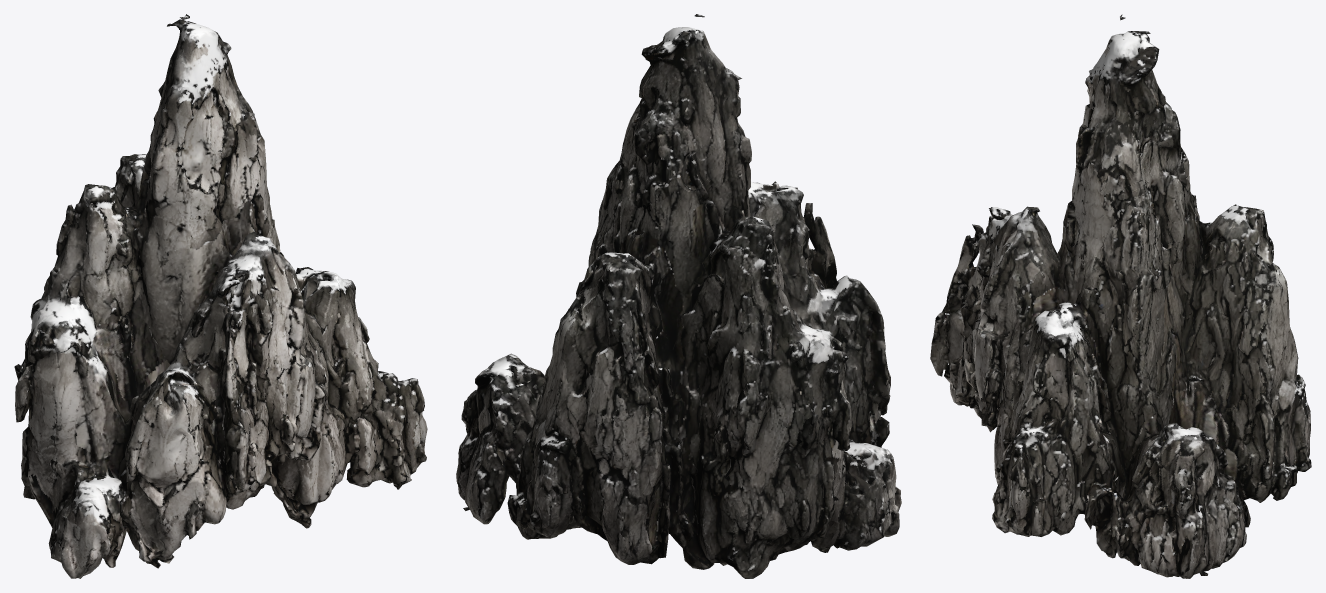
Rendered from InkPart02_Cluster.fbx.
3 views of the same model, side by side, from view 1: azimuth 30°, elevation 25°; view 2: azimuth 150°, elevation 25°; view 3: azimuth 270°, elevation 25° (orthographic). The views are drawn at different scales.
Visible parts, largest first — view 1: texture_mapping; view 2: texture_mapping; view 3: texture_mapping.
Part boxes in pixels (x1,y1,x2,y2): texture_mapping: (14,14,427,578); texture_mapping: (456,14,901,578); texture_mapping: (930,14,1311,578).
Bounding box in the file's own units: 0.7337 × 0.7065 × 0.9754.
Materials: 1 (1 with a texture image).
